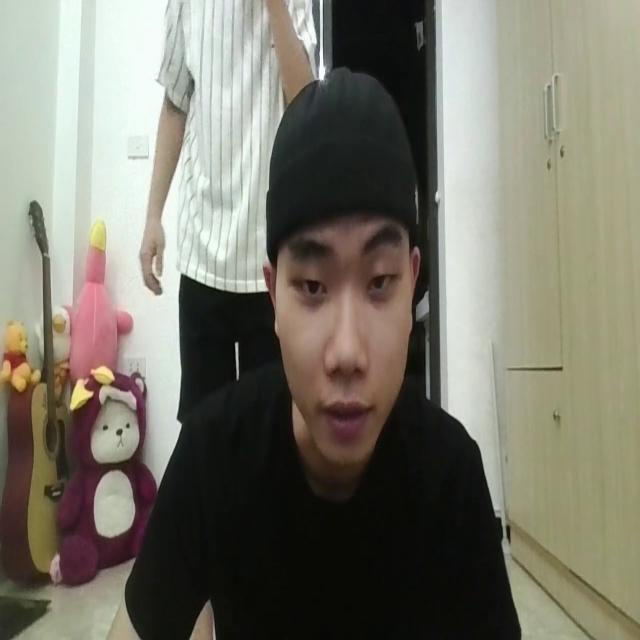extra_person: (141, 0, 311, 423)
student: (121, 64, 519, 640)
